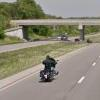Bridge: (8, 12, 98, 41)
